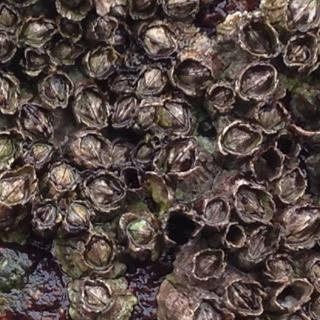Barnacle: (285, 207, 320, 249), (216, 121, 257, 155), (237, 184, 271, 224), (161, 137, 198, 172), (236, 67, 275, 100), (20, 102, 53, 140), (283, 0, 320, 32), (142, 24, 175, 59), (77, 89, 106, 128), (244, 21, 276, 56), (228, 279, 261, 311), (88, 173, 120, 206), (176, 59, 208, 92), (20, 20, 56, 48), (247, 227, 277, 259), (0, 172, 30, 204), (81, 279, 111, 310), (125, 216, 155, 247), (48, 161, 77, 193), (87, 237, 114, 270), (193, 250, 221, 277), (82, 135, 108, 164), (288, 37, 316, 63), (163, 100, 188, 129), (67, 200, 91, 230), (280, 168, 303, 199), (43, 78, 70, 104), (202, 199, 228, 225), (140, 66, 166, 92), (268, 257, 295, 282), (88, 50, 115, 75), (260, 103, 286, 128), (208, 85, 234, 110), (52, 41, 77, 65), (26, 146, 53, 168), (137, 142, 161, 165), (25, 52, 50, 74), (0, 75, 16, 109), (137, 107, 159, 131), (36, 203, 57, 227), (167, 0, 195, 18), (115, 97, 135, 122), (96, 17, 116, 42), (113, 144, 134, 166), (59, 19, 80, 40), (61, 0, 89, 15), (0, 135, 15, 162), (0, 6, 16, 29), (133, 0, 156, 13), (111, 4, 126, 19), (70, 86, 71, 87)
